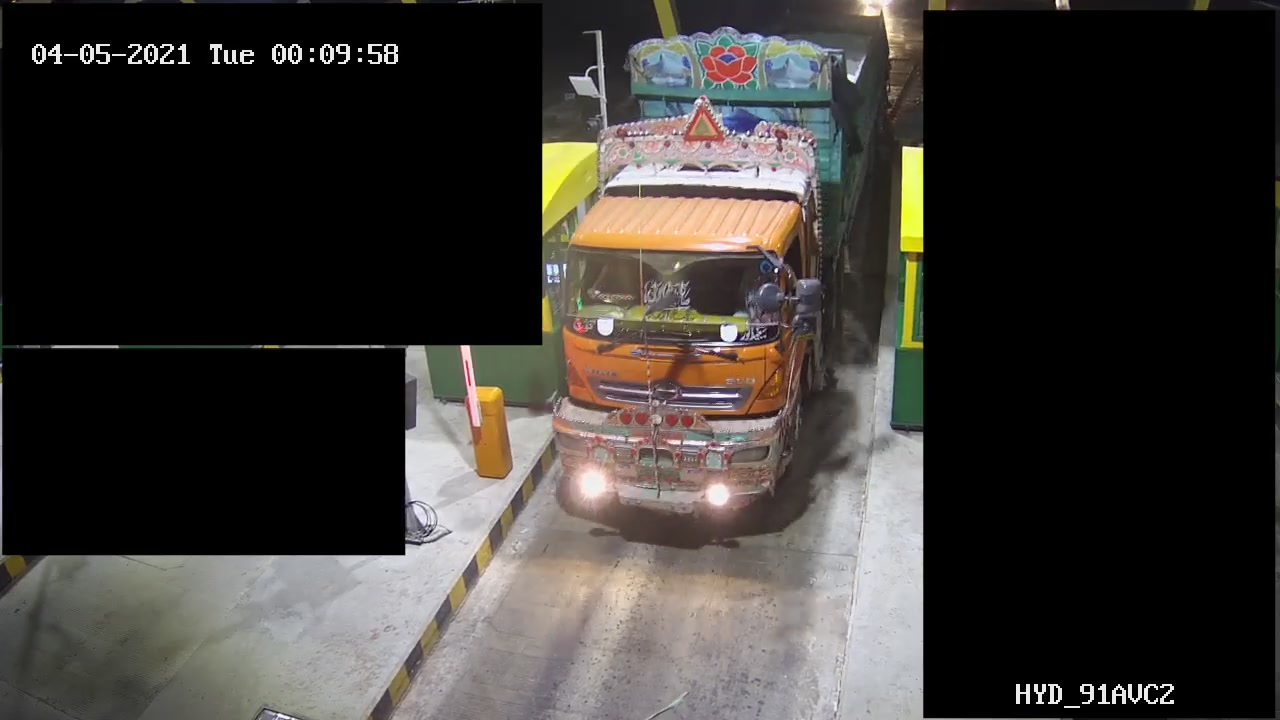F6: (547, 13, 890, 520)
